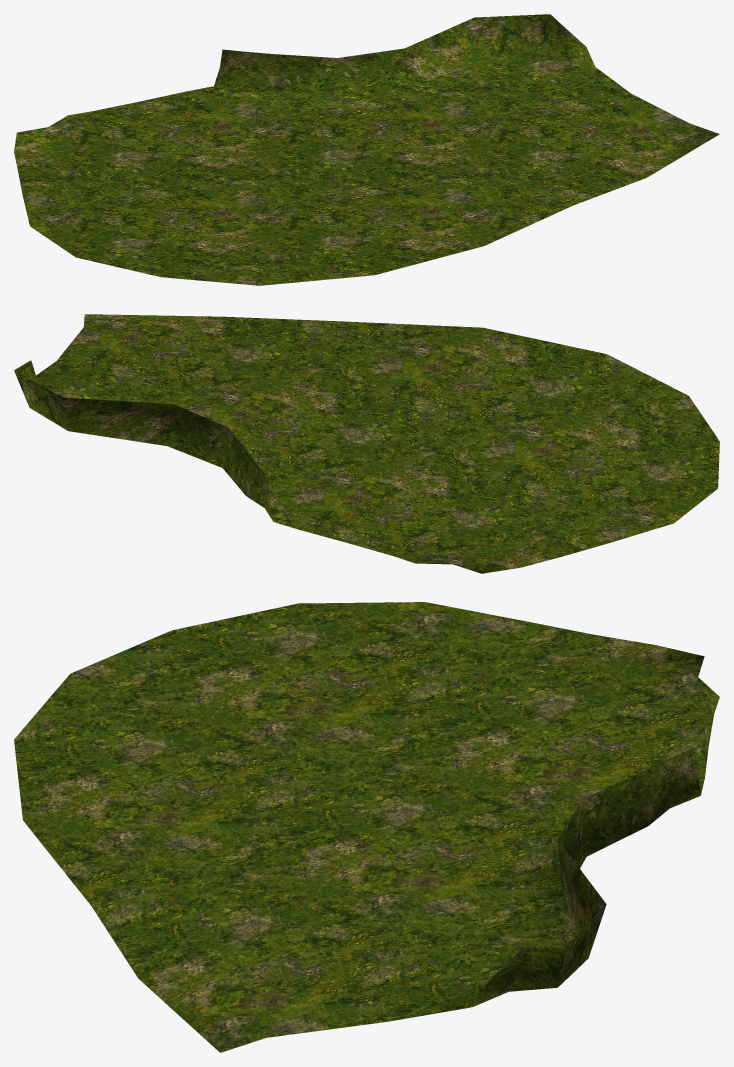
File: OVERHILL_A_01_OH_B_OBJECT49.fbx
3 renders of one model, top to bottom at view 1: azimuth 30°, elevation 25°; view 2: azimuth 150°, elevation 25°; view 3: azimuth 270°, elevation 25°, orthographic. The views are drawn at different scales.
Parts seen in each view (by area): view 1: OVERHILL_A_01_OH_B_OBJECT49; view 2: OVERHILL_A_01_OH_B_OBJECT49; view 3: OVERHILL_A_01_OH_B_OBJECT49.
Part boxes in pixels (box(x1,y1,x2,y2)): OVERHILL_A_01_OH_B_OBJECT49: box(14, 14, 719, 285); OVERHILL_A_01_OH_B_OBJECT49: box(14, 314, 719, 573); OVERHILL_A_01_OH_B_OBJECT49: box(14, 602, 719, 1052).
Bounding box in the file's own units: 87463 × 6670 × 59315.
2 materials, 2 textured.
